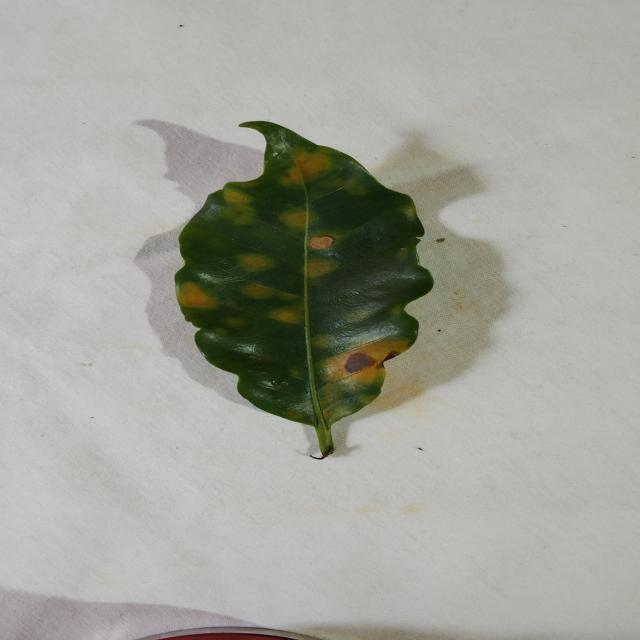Enfermedad-Roya: (173, 121, 435, 460)
